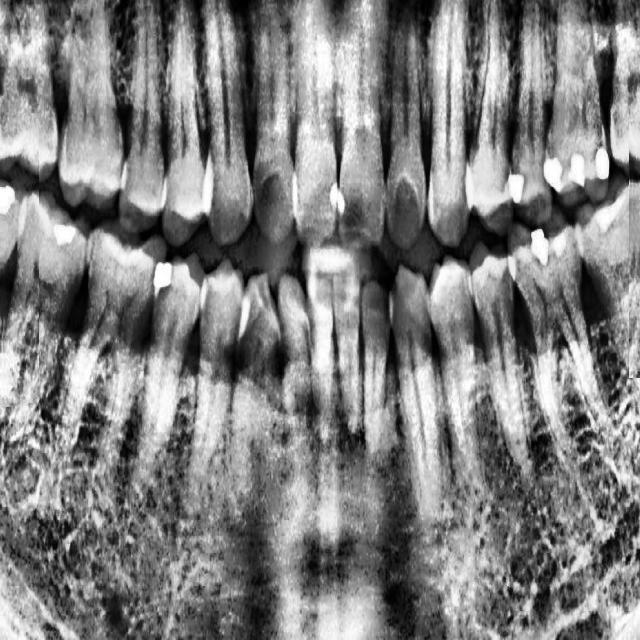Impacted Tooth: (0, 113, 39, 407), (629, 119, 640, 378)
